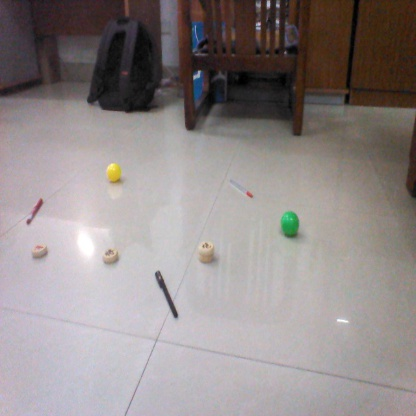ball: (282, 210, 300, 236), (103, 161, 125, 181)
chess: (193, 240, 216, 263), (101, 248, 118, 262), (35, 252, 51, 257)
pen: (151, 270, 179, 317), (228, 177, 256, 196), (26, 199, 46, 222)
